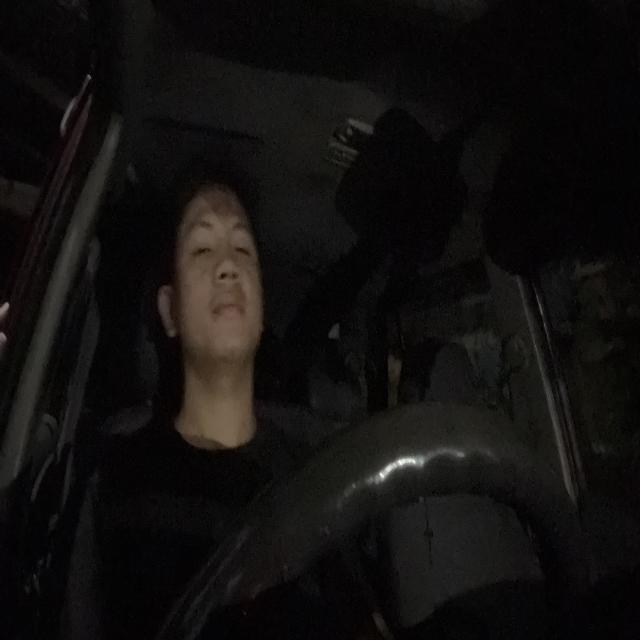close: (185, 216, 216, 266), (230, 218, 256, 268)
